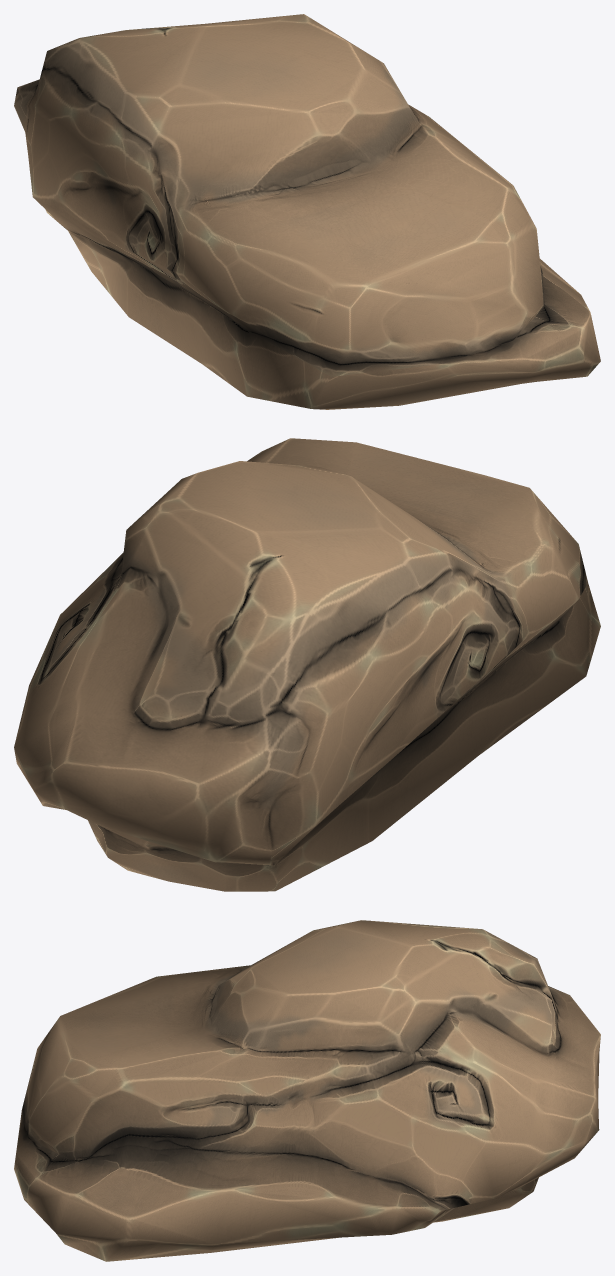
File: rock1.glb
3 renders of one model, top to bottom at view 1: azimuth 30°, elevation 25°; view 2: azimuth 150°, elevation 25°; view 3: azimuth 270°, elevation 25°, orthographic. The views are drawn at different scales.
Visible parts, largest first — view 1: node_id134; view 2: node_id134; view 3: node_id134.
Part boxes in pixels (left/top/right/bottom): node_id134: left=14, top=14, right=600, bottom=409; node_id134: left=14, top=438, right=600, bottom=891; node_id134: left=14, top=920, right=600, bottom=1261.
Size of the model in its own units: 0.2336 by 0.18 by 0.3851.
Materials: 1 (1 with a texture image).
